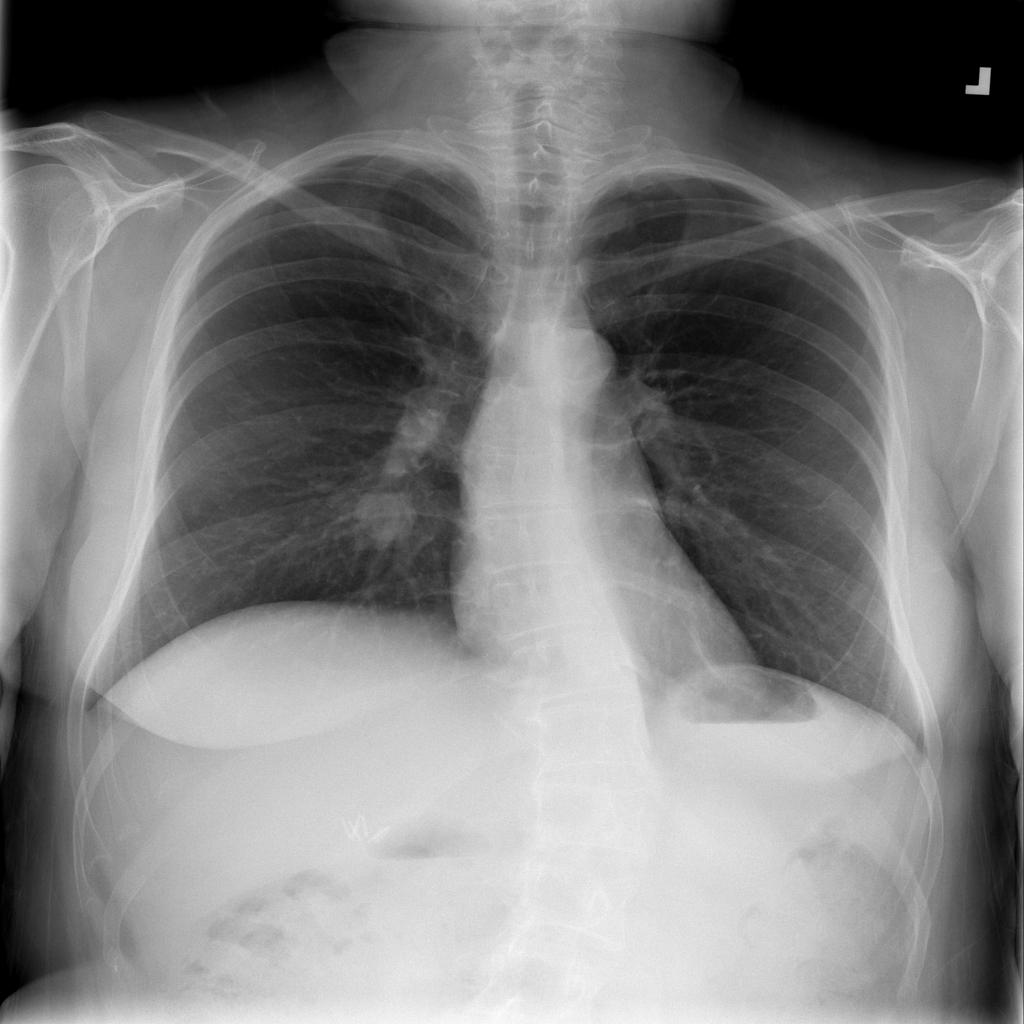nodule: (341, 477, 430, 553)
